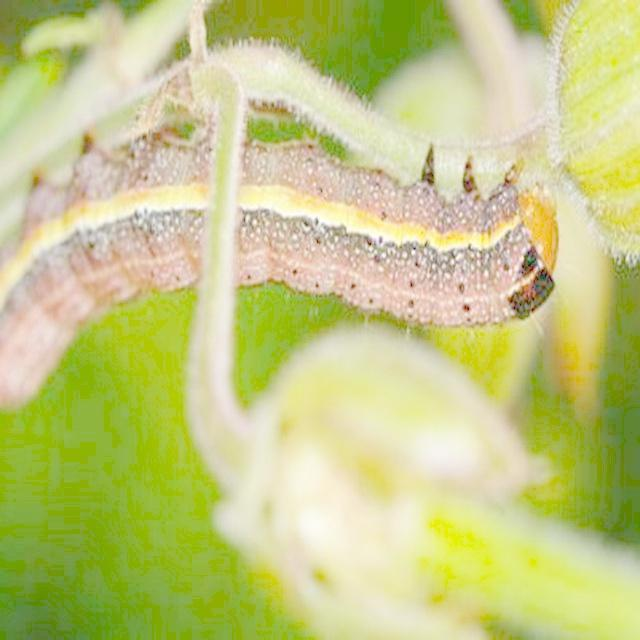gusano_cogollero: (0, 110, 564, 419)
